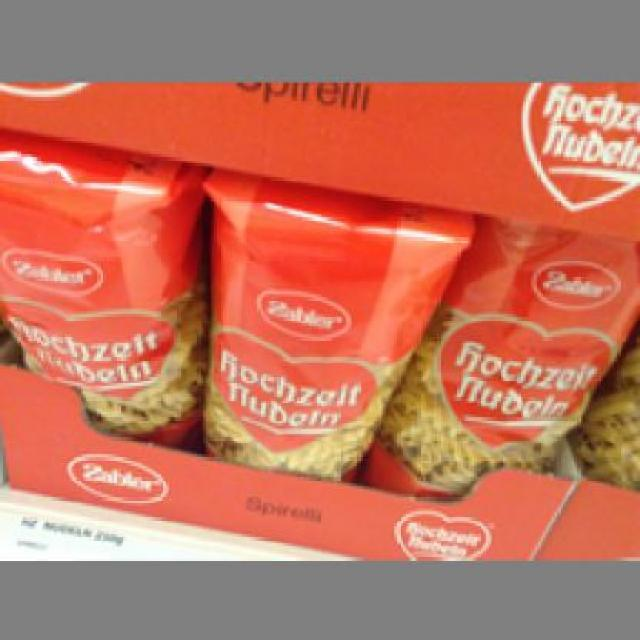Pasta: (199, 165, 472, 478), (368, 208, 638, 492), (0, 128, 197, 444)
